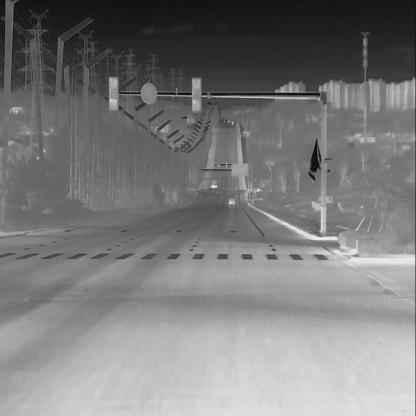car: (227, 195, 236, 206), (210, 178, 218, 189), (210, 178, 218, 188)
